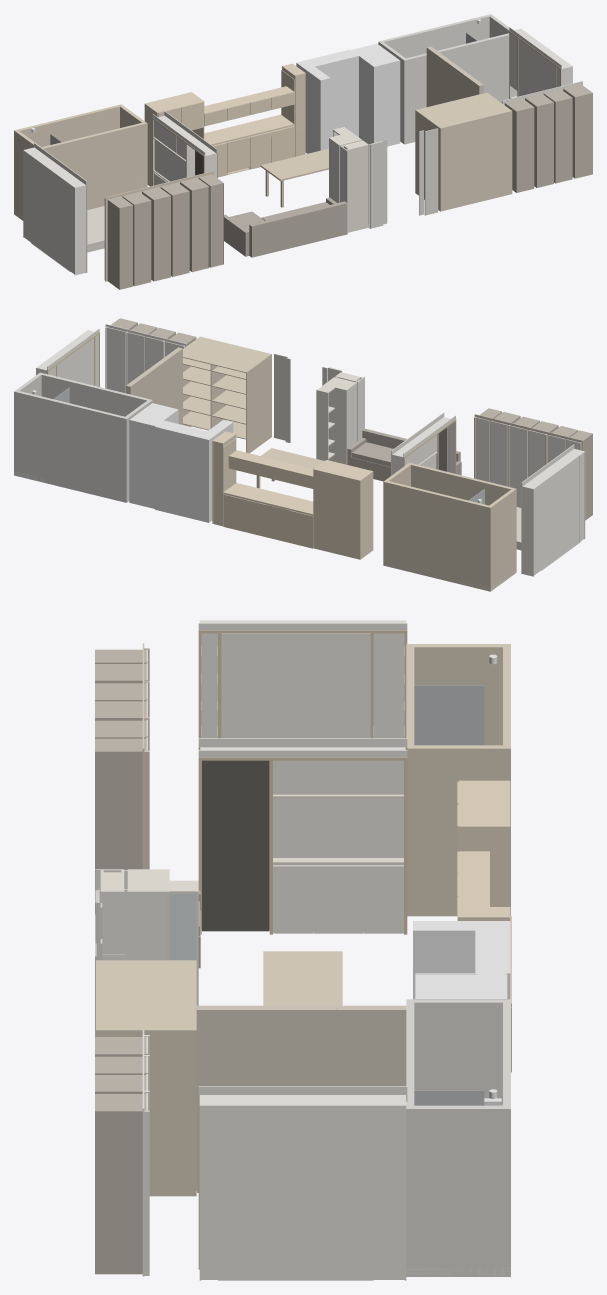
Rendered from 26A011_arredo_completo.glb.
The picture shows the model from 3 angles, top to bottom: view 1: azimuth 30°, elevation 25°; view 2: azimuth 150°, elevation 25°; view 3: azimuth 270°, elevation 25°; orthographic projection. The views are drawn at different scales.
Visible parts, largest first — view 1: cucina__R_cucina, lavanderia__R_lavanderia, bagno_ant_muri__muro, bagno_post_muri__muro, libreria__struttura_003, plo_ingresso__R_plo_ingresso, divano__schienale, parete_letto_master__PLT_197_SCHIENA, parete_divisoria__TELAIO, libreria__struttura_004, ingresso_living__SC_02_FIANCO_SX, parete_letto_doppia__PLT_196_PANNELLO_TESTATA (+25 smaller); view 2: bagno_ant_muri__muro, bagno_post_muri__muro, cucina__R_cucina, lavanderia__R_lavanderia, parete_letto_master__PLT_197_SCHIENA, libreria__struttura, parete_divisoria__TELAIO, libreria__struttura_004, plo_ingresso__R_plo_ingresso, ingresso_living__LB_23_FIANCO_DX, colonna_220__R_colonna_220, armadio_doppia__AD4_49_ANTA (+30 smaller); view 3: bagno_post_muri__muro, parete_letto_doppia__PLT_197_SCHIENA, bagno_ant_muri__muro, parete_letto_master__PLT_196_PANNELLO_TESTATA, parete_div_master__DVP_115_PANNELLO_PORTA, libreria__struttura_002, armadio_doppia__AD4_47_FIANCO_SX, parete_div_master__DVT_165_PANNELLO_TV_LIVING, lavanderia__R_lavanderia, cucina__R_cucina, libreria__struttura_004, parete_divisoria__PANNELLO_40_002 (+29 smaller).
Boxes of the visible parts, bbox=[...] form: cucina__R_cucina: bbox=[144, 70, 305, 186]; lavanderia__R_lavanderia: bbox=[296, 43, 400, 153]; bagno_ant_muri__muro: bbox=[14, 104, 147, 220]; bagno_post_muri__muro: bbox=[378, 14, 509, 144]; libreria__struttura_003: bbox=[440, 111, 512, 211]; plo_ingresso__R_plo_ingresso: bbox=[368, 128, 438, 228]; divano__schienale: bbox=[249, 201, 347, 257]; parete_letto_master__PLT_197_SCHIENA: bbox=[32, 157, 69, 270]; parete_divisoria__TELAIO: bbox=[426, 47, 481, 106]; libreria__struttura_004: bbox=[416, 92, 512, 127]; ingresso_living__SC_02_FIANCO_SX: bbox=[347, 144, 368, 232]; parete_letto_doppia__PLT_196_PANNELLO_TESTATA: bbox=[518, 39, 555, 96]; bagno_ant_muri__muro: bbox=[383, 462, 516, 591]; bagno_post_muri__muro: bbox=[14, 372, 152, 502]; cucina__R_cucina: bbox=[223, 438, 373, 559]; lavanderia__R_lavanderia: bbox=[129, 403, 233, 522]; parete_letto_master__PLT_197_SCHIENA: bbox=[542, 456, 579, 568]; libreria__struttura: bbox=[246, 354, 271, 453]; parete_divisoria__TELAIO: bbox=[128, 348, 182, 424]; libreria__struttura_004: bbox=[183, 337, 271, 372]; plo_ingresso__R_plo_ingresso: bbox=[274, 353, 342, 442]; ingresso_living__LB_23_FIANCO_DX: bbox=[324, 384, 347, 464]; colonna_220__R_colonna_220: bbox=[212, 431, 236, 526]; armadio_doppia__AD4_49_ANTA: bbox=[107, 327, 125, 392]; bagno_post_muri__muro: bbox=[406, 999, 510, 1276]; parete_letto_doppia__PLT_197_SCHIENA: bbox=[221, 1107, 370, 1279]; bagno_ant_muri__muro: bbox=[406, 644, 510, 916]; parete_letto_master__PLT_196_PANNELLO_TESTATA: bbox=[221, 633, 370, 738]; parete_div_master__DVP_115_PANNELLO_PORTA: bbox=[202, 760, 269, 931]; libreria__struttura_002: bbox=[96, 1029, 196, 1196]; armadio_doppia__AD4_47_FIANCO_SX: bbox=[95, 1110, 142, 1274]; parete_div_master__DVT_165_PANNELLO_TV_LIVING: bbox=[273, 798, 403, 857]; lavanderia__R_lavanderia: bbox=[413, 921, 510, 999]; cucina__R_cucina: bbox=[457, 780, 511, 1072]; libreria__struttura_004: bbox=[96, 960, 196, 1031]; parete_divisoria__PANNELLO_40_002: bbox=[223, 1008, 311, 1086].
Size of the model in its own units: 13.04 by 2.3 by 4.73.
